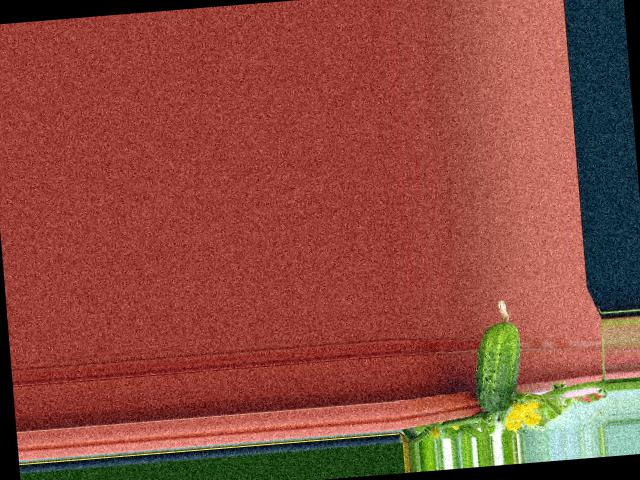cucumber: (469, 298, 526, 414)
